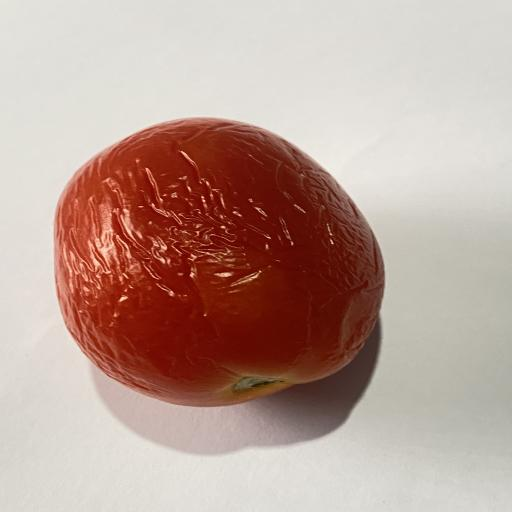spoiled: (54, 118, 384, 406)
